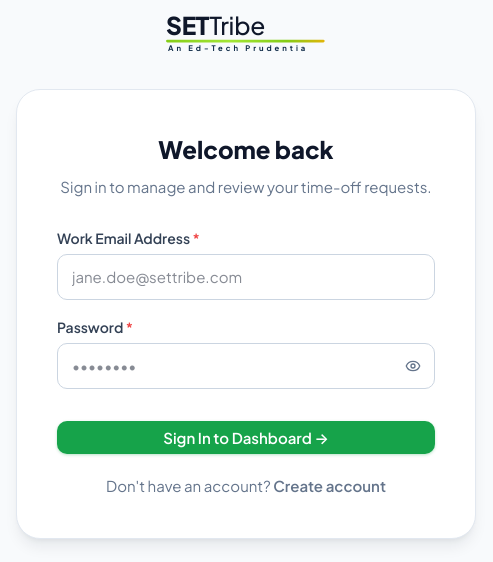
it: AuthPage › keeps the password visibility toggle reachable by keyboard
Click the button named "Show password" at (413, 366), box [401,354,425,378]
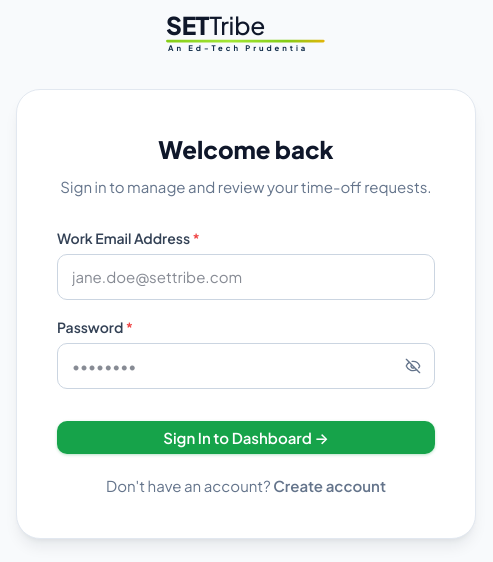
Check: the button named "Hide password" is shown, box [401,354,425,378]
